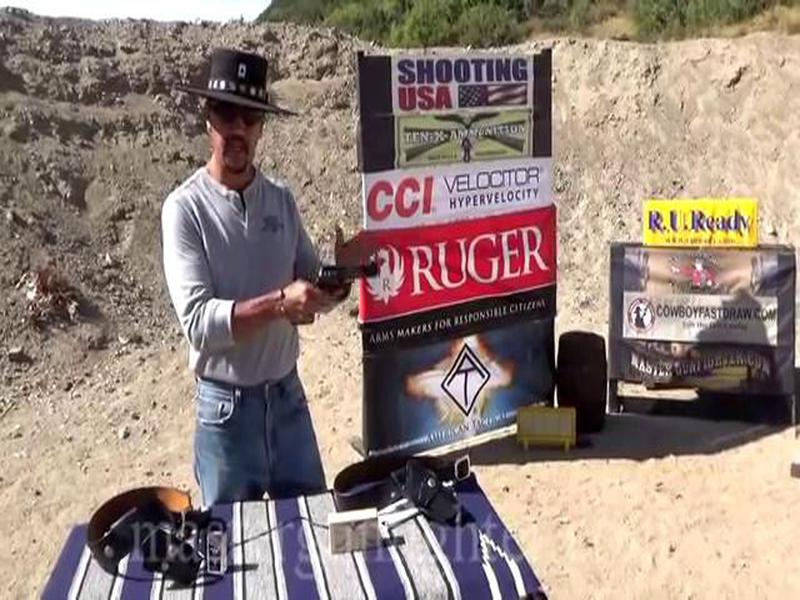Revolver: (299, 252, 388, 329)
